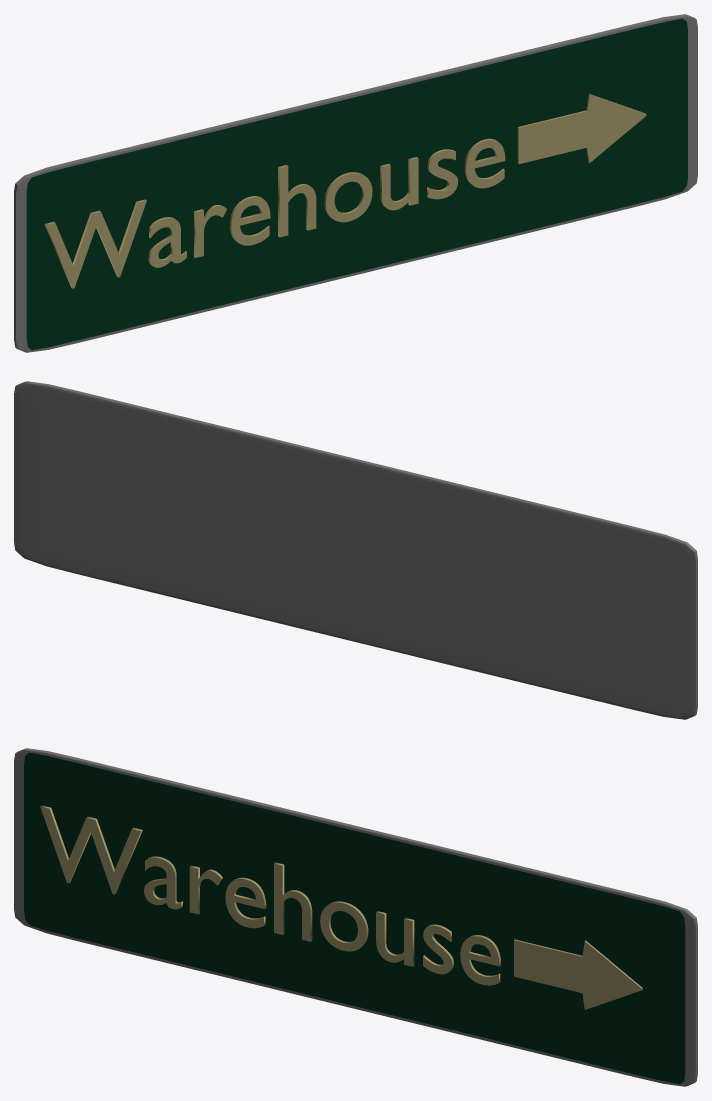
Rendered from warehouse to the right.fbx.
The picture shows the model from 3 angles, top to bottom: view 1: azimuth 30°, elevation 25°; view 2: azimuth 150°, elevation 25°; view 3: azimuth 330°, elevation 25°; orthographic projection.
Parts seen in each view (by area): view 1: Cube.001, Text.004, Cube.002; view 2: Cube.001; view 3: Cube.001, Text.004, Cube.002.
Part boxes in pixels (x1,y1,x2,y2): Cube.001: [14, 14, 697, 352]; Text.004: [44, 138, 505, 288]; Cube.002: [517, 93, 646, 164]; Cube.001: [14, 381, 697, 719]; Cube.001: [14, 748, 697, 1086]; Text.004: [40, 805, 501, 985]; Cube.002: [514, 939, 642, 1009].
Size of the model in its own units: 1504 by 382 by 15.99.
